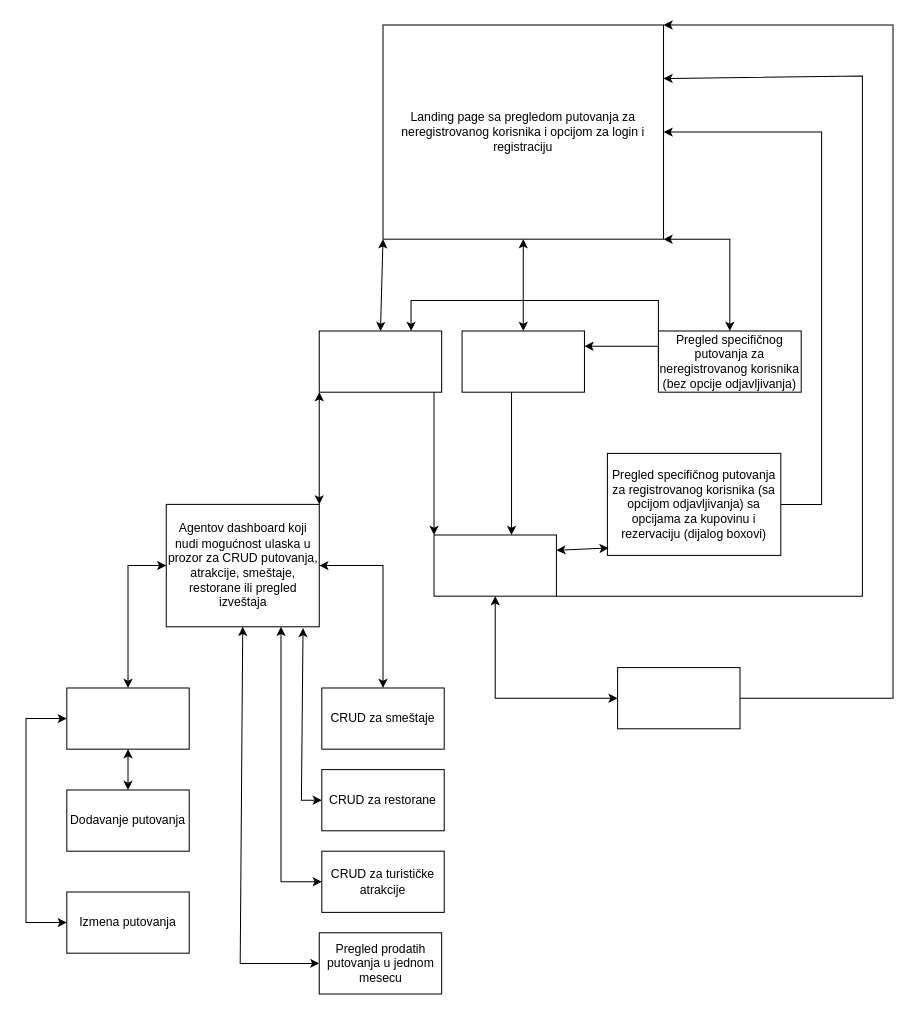
This 919x1012 diagram has some shape labels left out. Each missing label, with the box of its shape:
Landing page sa pregledom putovanja za registrovanog korisnika: (433, 534, 556, 596)
Listanje, čitanje i brisanje putovanja: (66, 687, 189, 749)
Login: (318, 330, 442, 392)
Pregled kupljenih i rezervisanih putovanja: (617, 667, 740, 729)
Registracija: (461, 330, 584, 392)
